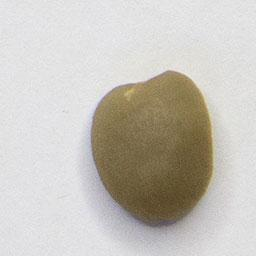premium: (85, 67, 217, 229)
